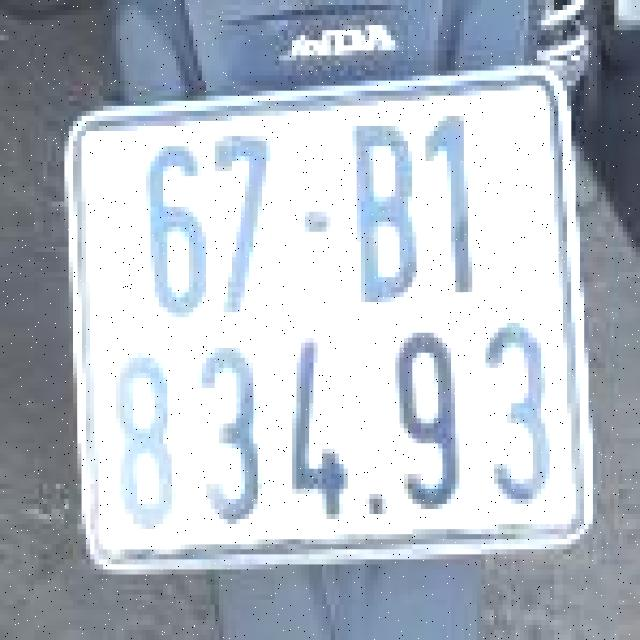1: (419, 101, 496, 302)
3: (470, 325, 552, 517), (193, 350, 271, 527)
4: (275, 328, 356, 529)
6: (140, 116, 217, 322)
7: (206, 126, 279, 343)
8: (116, 340, 185, 537)
9: (376, 310, 470, 527)
B: (342, 103, 423, 310)
